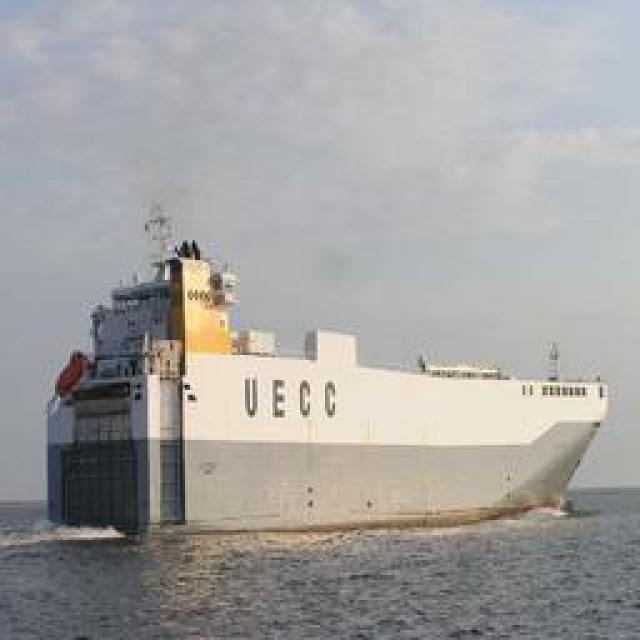Ship: (45, 253, 603, 538)
